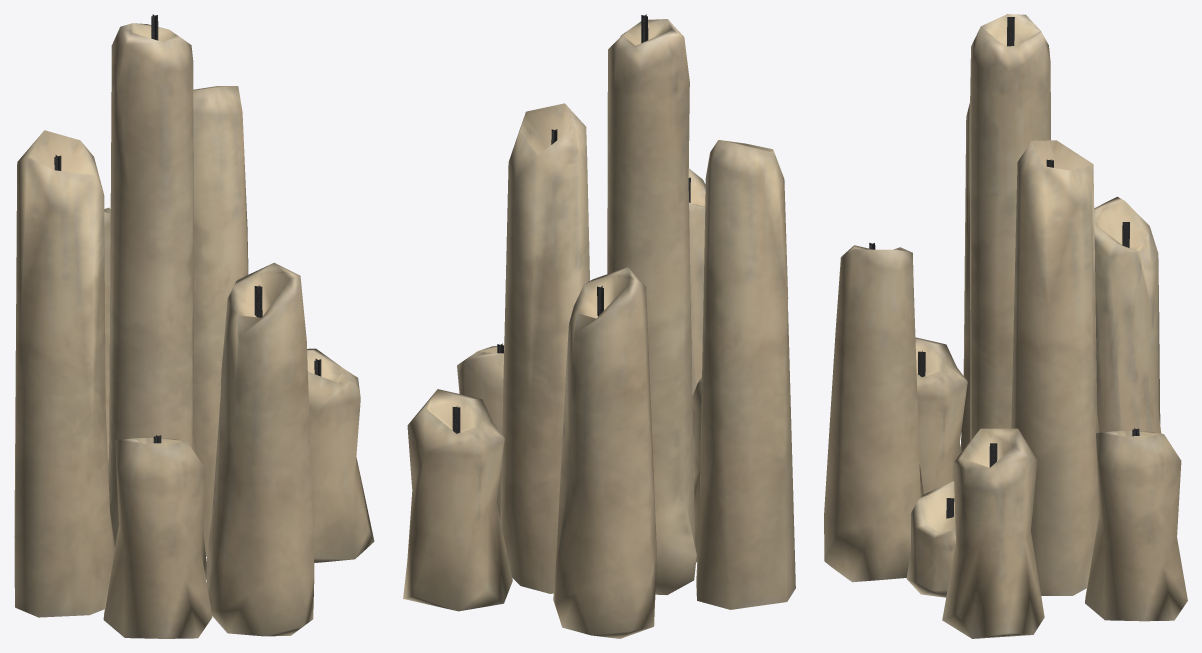
File: SM_CandleCluster_01b.gltf
The picture shows the model from 3 angles, left to right: view 1: azimuth 30°, elevation 25°; view 2: azimuth 150°, elevation 25°; view 3: azimuth 270°, elevation 25°; orthographic projection. The views are drawn at different scales.
Parts seen in each view (by area): view 1: SM_CandleCluster_01b; view 2: SM_CandleCluster_01b; view 3: SM_CandleCluster_01b.
Boxes of the visible parts, <box> form: SM_CandleCluster_01b: <box>14,14,374,638</box>; SM_CandleCluster_01b: <box>403,14,795,638</box>; SM_CandleCluster_01b: <box>824,14,1187,638</box>.
Bounding box in the file's own units: 0.4114 × 0.6463 × 0.3996.
1 material, 1 textured.
